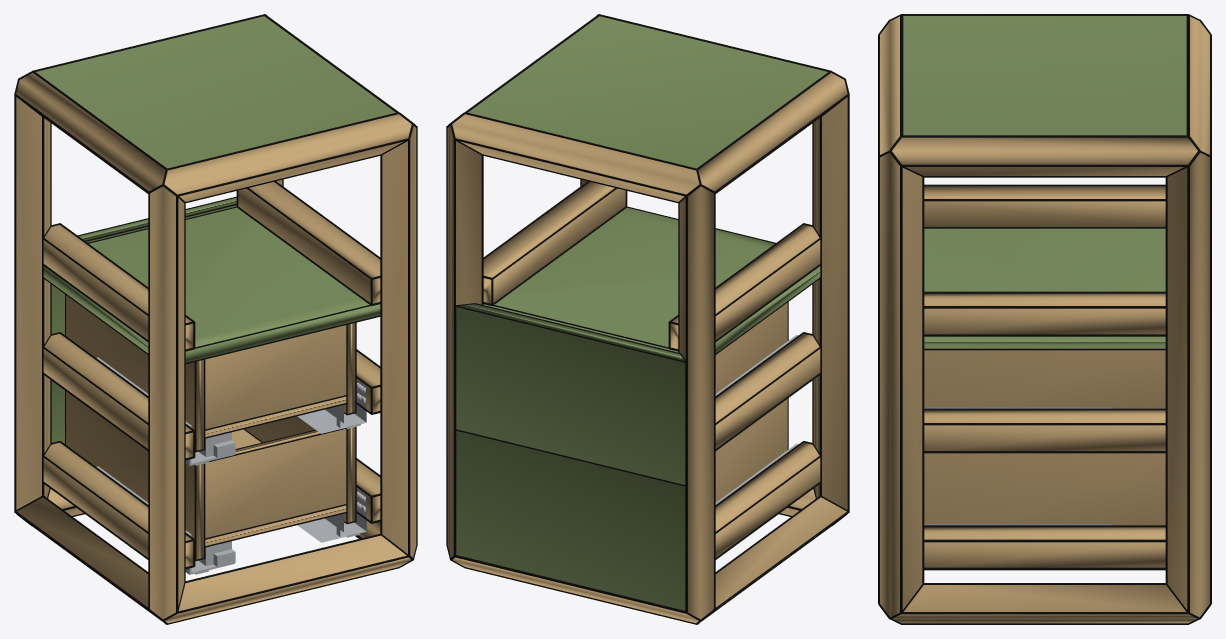
The model's file is 006-table-chevet.glb.
3 views of the same model, side by side, from view 1: azimuth 30°, elevation 25°; view 2: azimuth 150°, elevation 25°; view 3: azimuth 270°, elevation 25° (orthographic). The views are drawn at different scales.
Visible parts, largest first — view 1: panneau-dessus_exterieur, tablette-plate-mod-2, arete-Z0, arete-Z1, arete-Z2, drawer-box-avant-mod-0, drawer-box-avant-mod-1, arete-X2, arete-X0, tablette-traverse-right-mod-2, drawer-box-joue_g-mod-0, drawer-tr-drawer-traverse-left-mod-0 (+33 smaller); view 2: panneau-dessus_exterieur, drawer-box-facade-mod-1, drawer-box-facade-mod-0, tablette-plate-mod-2, arete-Z2, arete-Z0, arete-X3, arete-Z3, tablette-traverse-right-mod-2, tablette-traverse-left-mod-2, drawer-tr-drawer-traverse-left-mod-0, drawer-tr-drawer-traverse-left-mod-1 (+20 smaller); view 3: panneau-dessus_exterieur, tablette-plate-mod-2, arete-Z1, arete-Z3, drawer-box-joue_d-mod-0, drawer-box-joue_d-mod-1, arete-Y3, arete-Y1, tablette-traverse-right-mod-2, drawer-tr-drawer-traverse-right-mod-0, drawer-tr-drawer-traverse-right-mod-1, tablette-traverse-left-mod-2 (+14 smaller).
Boxes of the visible parts, box(x1,y1,x2,y2) form: panneau-dessus_exterieur: box(36, 16, 395, 168); tablette-plate-mod-2: box(43, 207, 380, 362); arete-Z0: box(150, 186, 184, 619); arete-Z1: box(382, 126, 416, 557); arete-Z2: box(16, 97, 50, 509); drawer-box-avant-mod-0: box(205, 429, 346, 538); drawer-box-avant-mod-1: box(205, 325, 346, 429); arete-X2: box(164, 114, 411, 201); arete-X0: box(165, 535, 410, 623); tablette-traverse-right-mod-2: box(238, 182, 380, 303); drawer-box-joue_g-mod-0: box(66, 391, 203, 559); drawer-tr-drawer-traverse-left-mod-0: box(43, 442, 193, 566); panneau-dessus_exterieur: box(468, 16, 827, 168); drawer-box-facade-mod-1: box(456, 304, 685, 484); drawer-box-facade-mod-0: box(456, 431, 685, 610); tablette-plate-mod-2: box(483, 207, 820, 353); arete-Z2: box(679, 186, 713, 619); arete-Z0: box(813, 97, 847, 509); arete-X3: box(452, 114, 699, 201); arete-Z3: box(447, 126, 481, 557); tablette-traverse-right-mod-2: box(483, 182, 625, 303); tablette-traverse-left-mod-2: box(670, 225, 820, 348); drawer-tr-drawer-traverse-left-mod-0: box(715, 442, 820, 557); drawer-tr-drawer-traverse-left-mod-1: box(715, 334, 820, 448); panneau-dessus_exterieur: box(903, 16, 1186, 135); tablette-plate-mod-2: box(924, 228, 1165, 348); arete-Z1: box(880, 152, 922, 617); arete-Z3: box(1167, 152, 1209, 617); drawer-box-joue_d-mod-0: box(924, 453, 1165, 525); drawer-box-joue_d-mod-1: box(924, 350, 1165, 408); arete-Y3: box(892, 137, 1197, 175); arete-Y1: box(892, 585, 1197, 623); tablette-traverse-right-mod-2: box(924, 293, 1165, 334); drawer-tr-drawer-traverse-right-mod-0: box(924, 527, 1165, 567); drawer-tr-drawer-traverse-right-mod-1: box(924, 410, 1165, 450); tablette-traverse-left-mod-2: box(924, 186, 1165, 226).
Size of the model in its own units: 0.3238 by 0.5238 by 0.3238.
